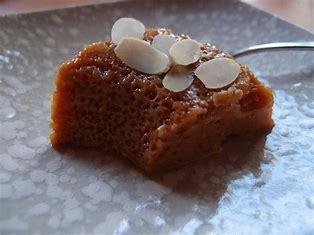Watalappam: (44, 4, 269, 175)
